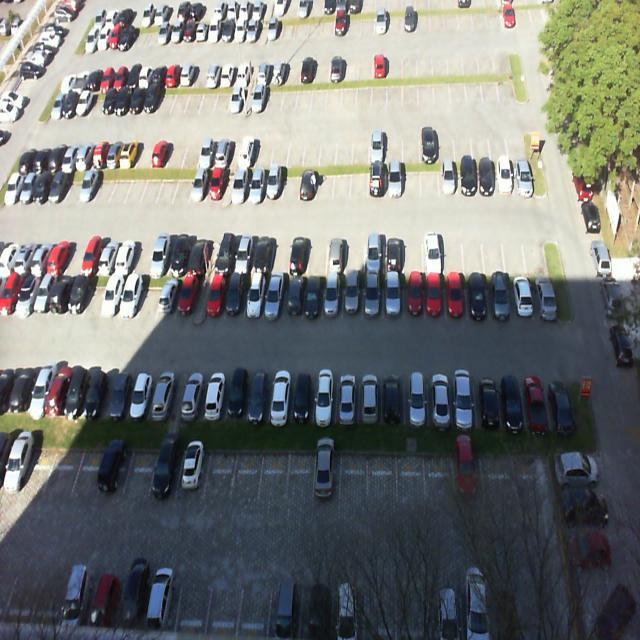space-empty: (123, 442, 158, 502), (71, 446, 106, 501), (43, 445, 78, 499), (231, 451, 264, 504), (204, 448, 238, 498), (21, 446, 55, 494), (259, 448, 290, 500), (288, 449, 314, 504), (136, 267, 162, 320), (483, 227, 507, 275), (443, 226, 466, 273), (130, 236, 156, 276), (155, 165, 178, 208), (525, 229, 548, 272), (505, 227, 526, 272), (139, 165, 162, 205), (404, 226, 424, 272), (172, 165, 193, 208), (464, 228, 484, 272), (307, 234, 328, 273), (345, 231, 364, 274), (268, 236, 290, 272), (283, 164, 300, 205), (422, 163, 440, 198), (333, 165, 350, 202), (403, 163, 420, 198), (316, 166, 332, 200), (351, 164, 367, 198)
space-occupied: (94, 445, 132, 502), (148, 444, 182, 500), (545, 370, 576, 426), (499, 373, 528, 432), (175, 445, 208, 496), (312, 451, 342, 507), (223, 370, 254, 424), (523, 371, 550, 428), (64, 367, 93, 420), (476, 372, 502, 429), (117, 271, 146, 322), (222, 272, 249, 326), (83, 371, 112, 421), (106, 371, 134, 422), (452, 374, 479, 426), (428, 375, 454, 428), (127, 370, 154, 420), (312, 372, 336, 428), (268, 373, 294, 424), (154, 274, 180, 324), (203, 370, 229, 420), (246, 372, 272, 422), (262, 270, 286, 324), (530, 270, 557, 318), (148, 374, 175, 422), (359, 371, 382, 426), (174, 272, 198, 324), (382, 371, 405, 424), (101, 270, 125, 320), (241, 275, 265, 325), (335, 373, 359, 423), (290, 372, 313, 424), (405, 374, 428, 426), (486, 273, 511, 320), (181, 373, 206, 418), (205, 273, 225, 327), (113, 238, 140, 276), (509, 276, 532, 320), (303, 276, 324, 324), (444, 277, 467, 320), (467, 275, 488, 322), (148, 237, 172, 278), (188, 164, 211, 206), (363, 276, 384, 322), (282, 276, 302, 324), (167, 238, 192, 276), (322, 277, 343, 322), (425, 229, 445, 276), (188, 239, 212, 278), (511, 156, 534, 196), (287, 234, 310, 274), (404, 274, 424, 320), (426, 276, 446, 322), (382, 231, 404, 272), (229, 238, 252, 277), (204, 166, 226, 206), (231, 164, 252, 205), (213, 239, 236, 276), (384, 276, 402, 322), (251, 235, 272, 272), (345, 275, 362, 320), (324, 235, 344, 273), (364, 235, 383, 273), (458, 162, 478, 198), (478, 158, 496, 198), (299, 166, 317, 205), (494, 160, 514, 195), (267, 166, 284, 207), (250, 166, 268, 204), (368, 162, 386, 200), (388, 162, 404, 200), (440, 162, 458, 195)
